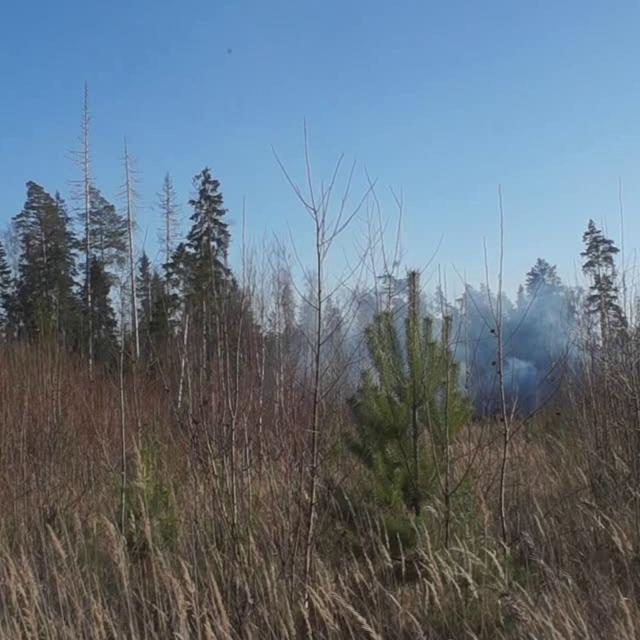Smoke: (292, 264, 592, 418)
